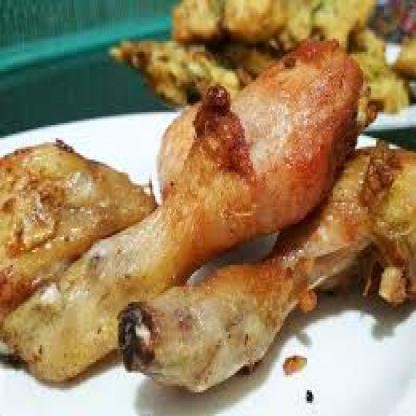ayam_goreng: (3, 39, 365, 388), (116, 146, 415, 401), (0, 140, 157, 315)
